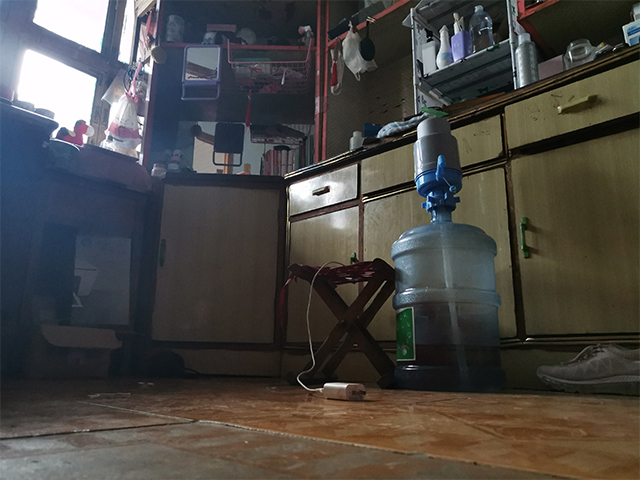cabinet: (1, 99, 156, 381), (505, 48, 640, 350), (149, 171, 284, 380)
stool: (283, 256, 400, 391)
wire: (294, 259, 368, 403)
